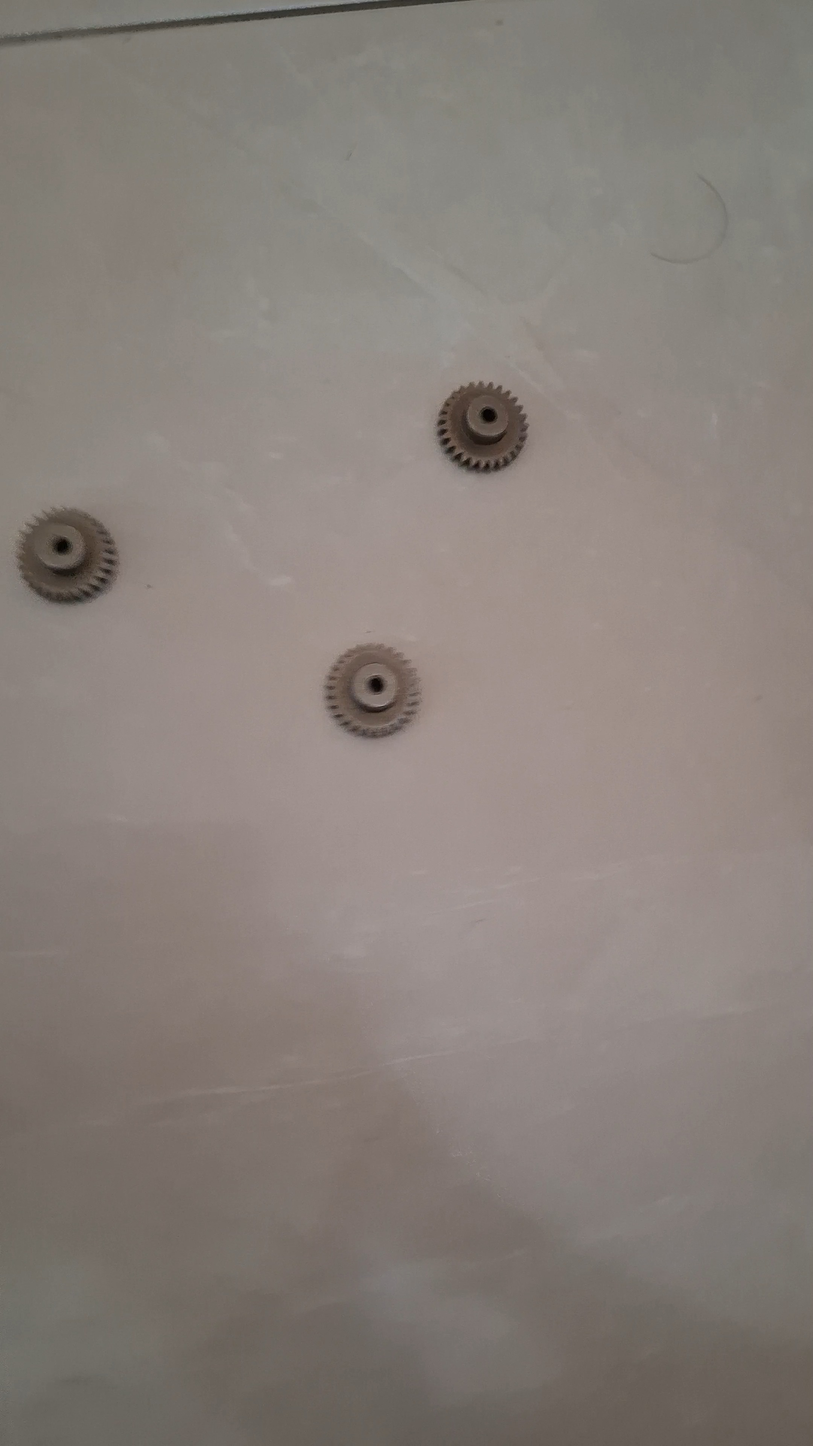spur gear: (17, 509, 117, 602), (324, 644, 420, 737), (437, 383, 527, 471)
